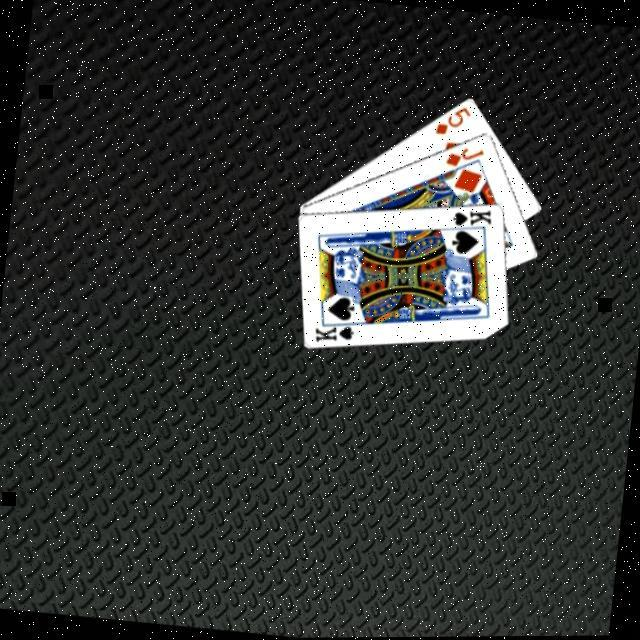5D: (432, 102, 475, 142)
JD: (443, 144, 487, 174)
KS: (312, 316, 361, 349), (450, 205, 496, 232)
